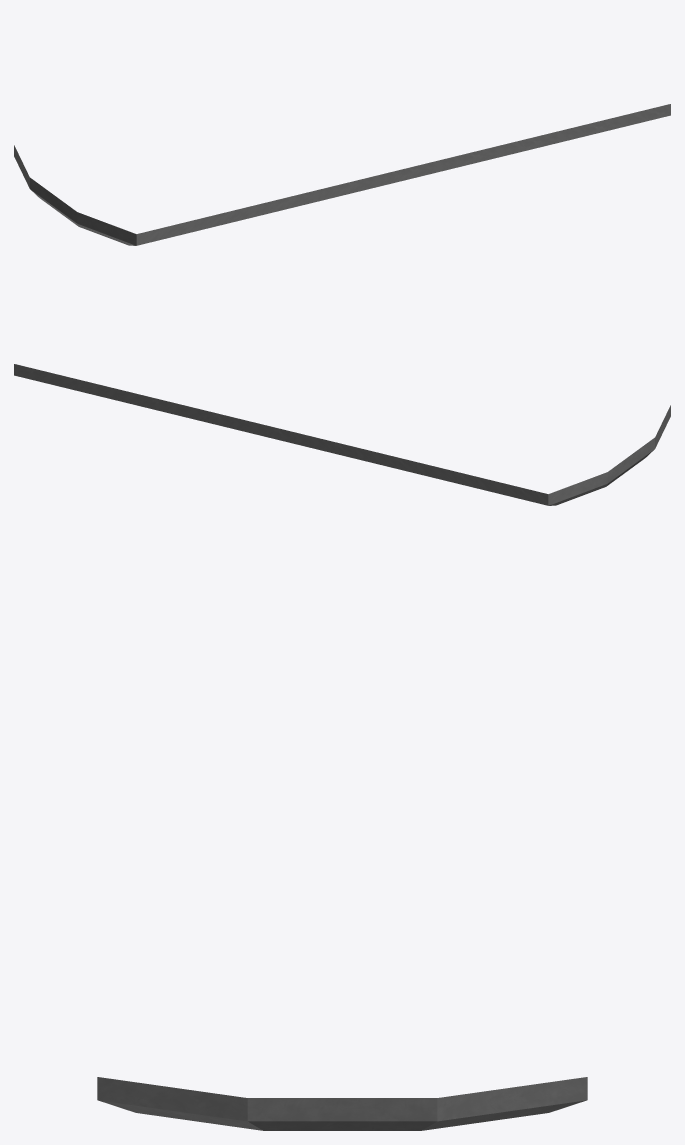
The model's file is officelight.glb.
3 renders of one model, top to bottom at view 1: azimuth 30°, elevation 25°; view 2: azimuth 150°, elevation 25°; view 3: azimuth 270°, elevation 25°, orthographic. The views are drawn at different scales.
Visible parts, largest first — view 1: case; view 2: case; view 3: case.
Part boxes in pixels (x1,y1,x2,y2): case: (14, 104, 670, 245); case: (14, 364, 670, 505); case: (97, 1077, 587, 1130).
Bounding box in the file's own units: 1.9 × 0.0601 × 0.6981.
2 materials, 2 textured.
